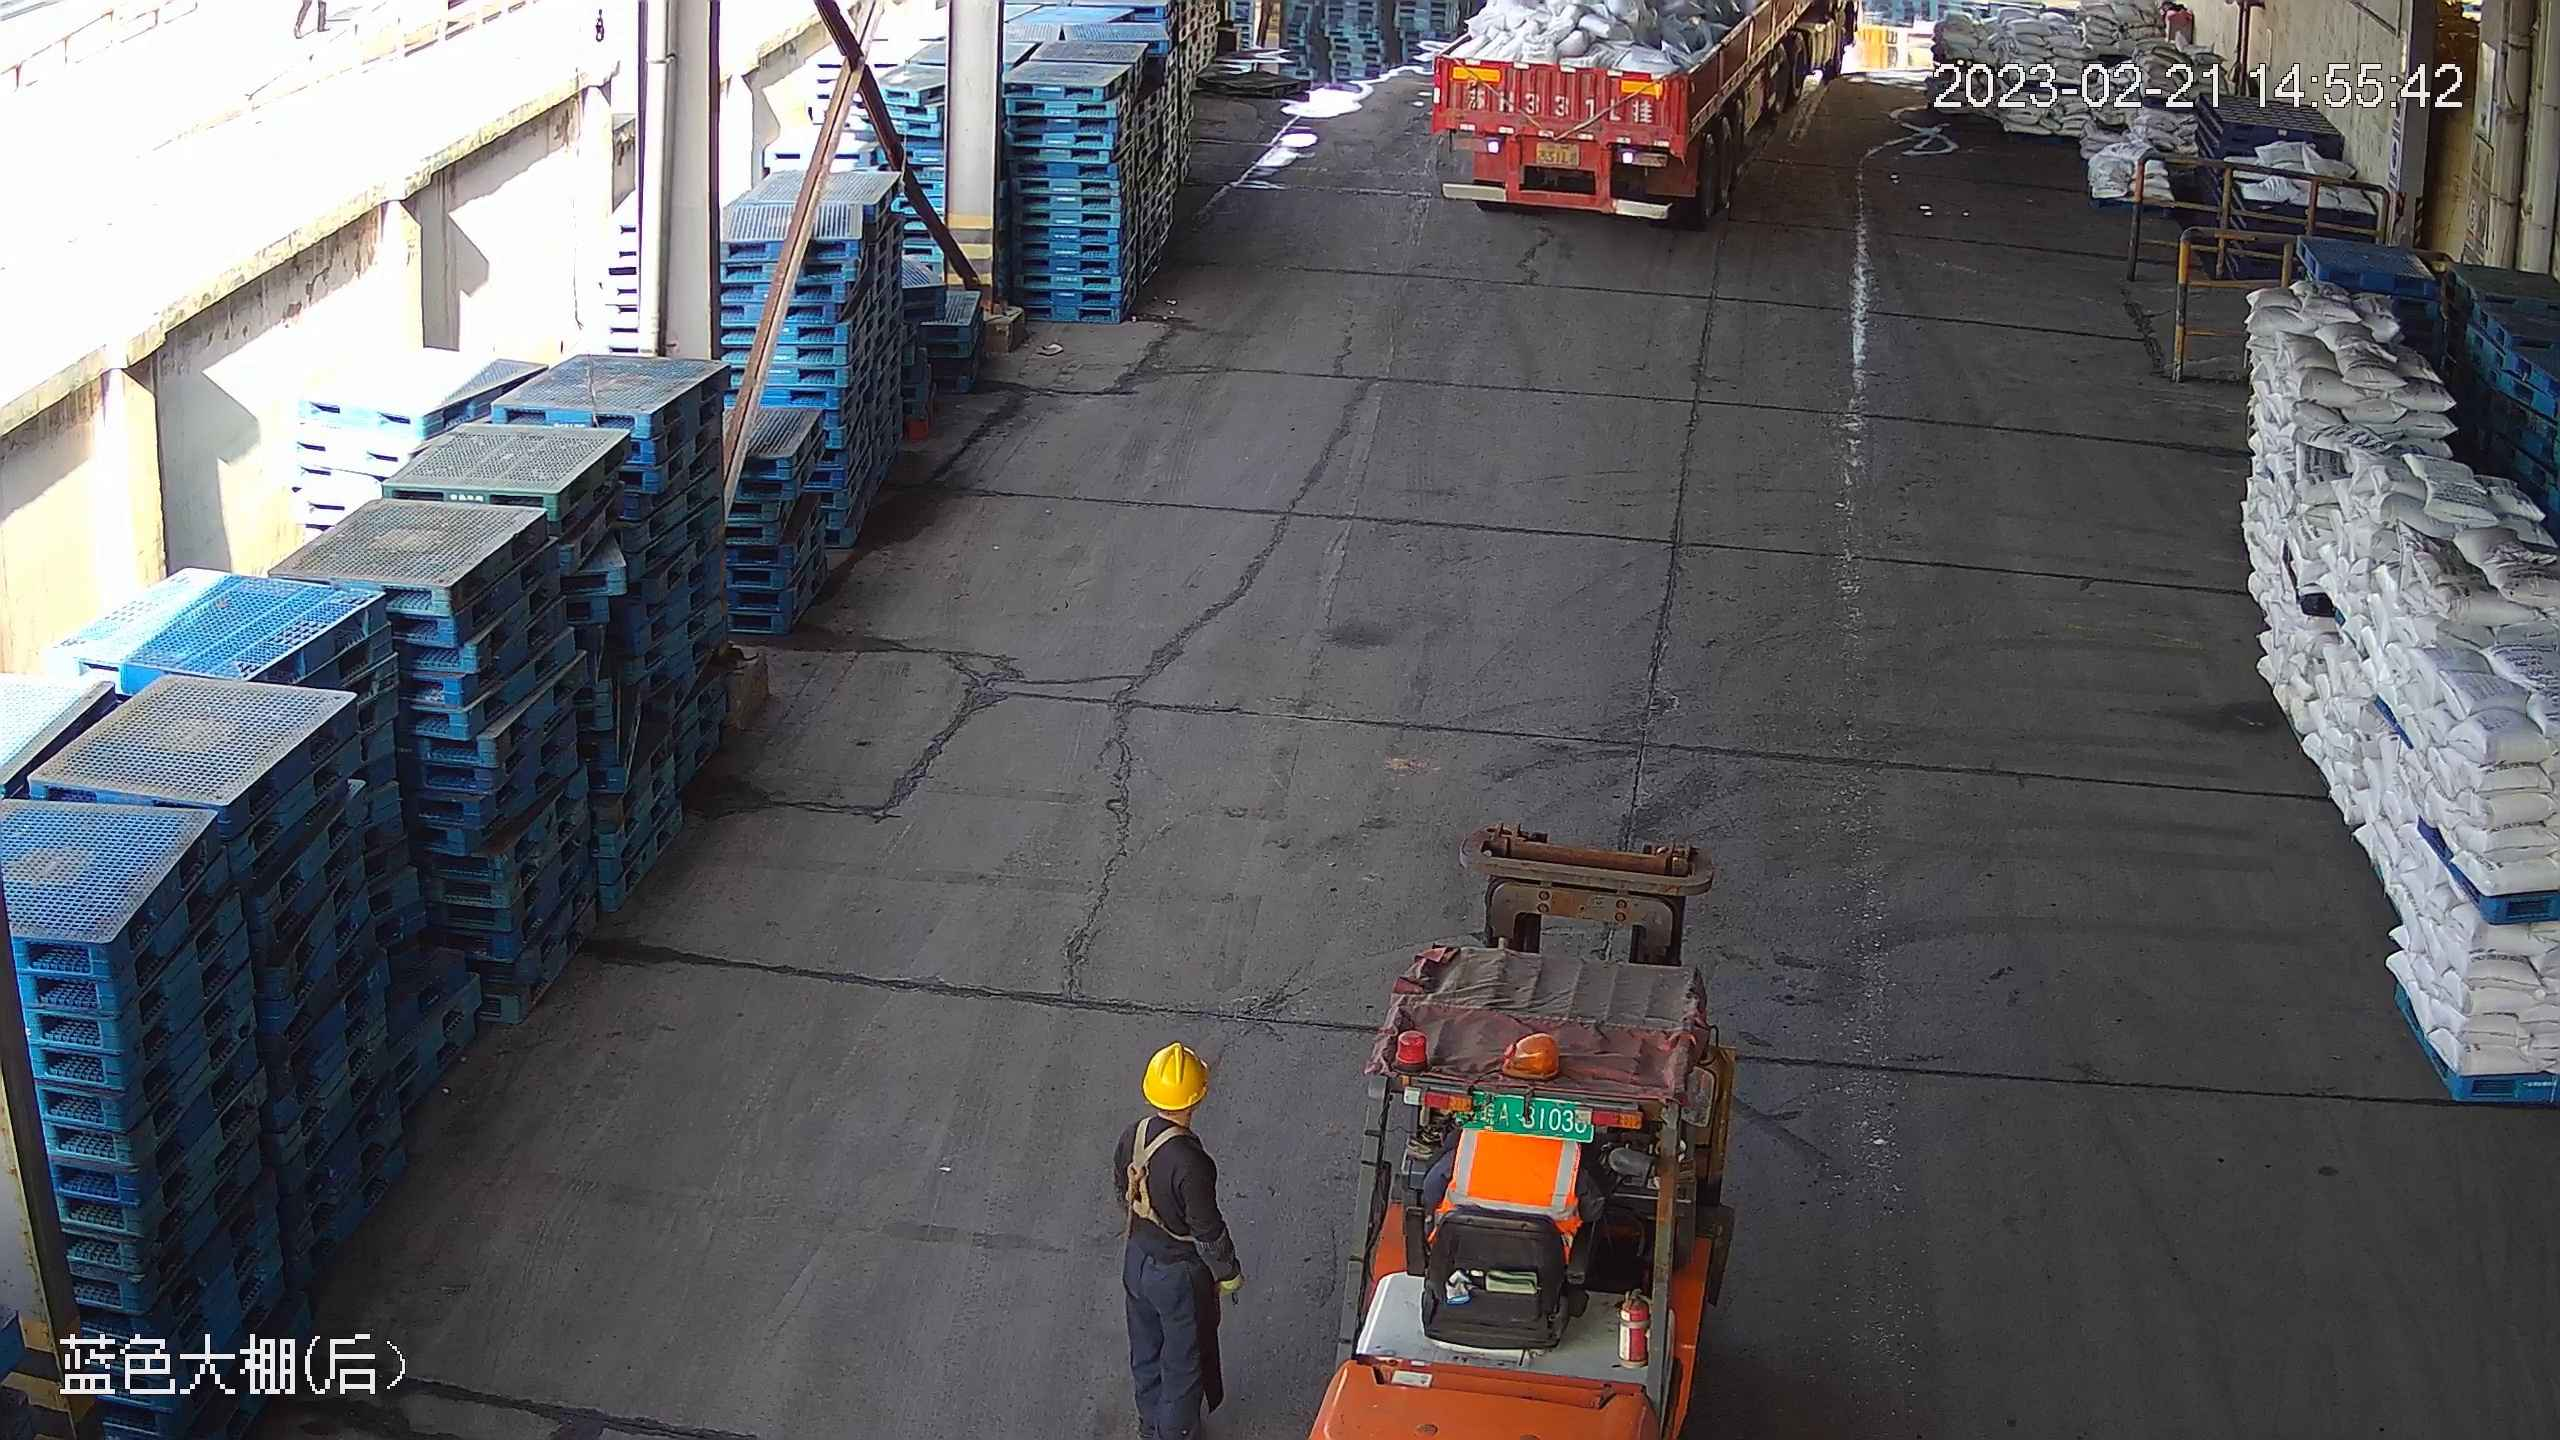belt: (1122, 1122, 1200, 1230)
head: (1114, 1037, 1235, 1153)
helmet: (1139, 1043, 1216, 1109)
people: (1104, 1041, 1241, 1440)
truck: (1423, 2, 1869, 229)
